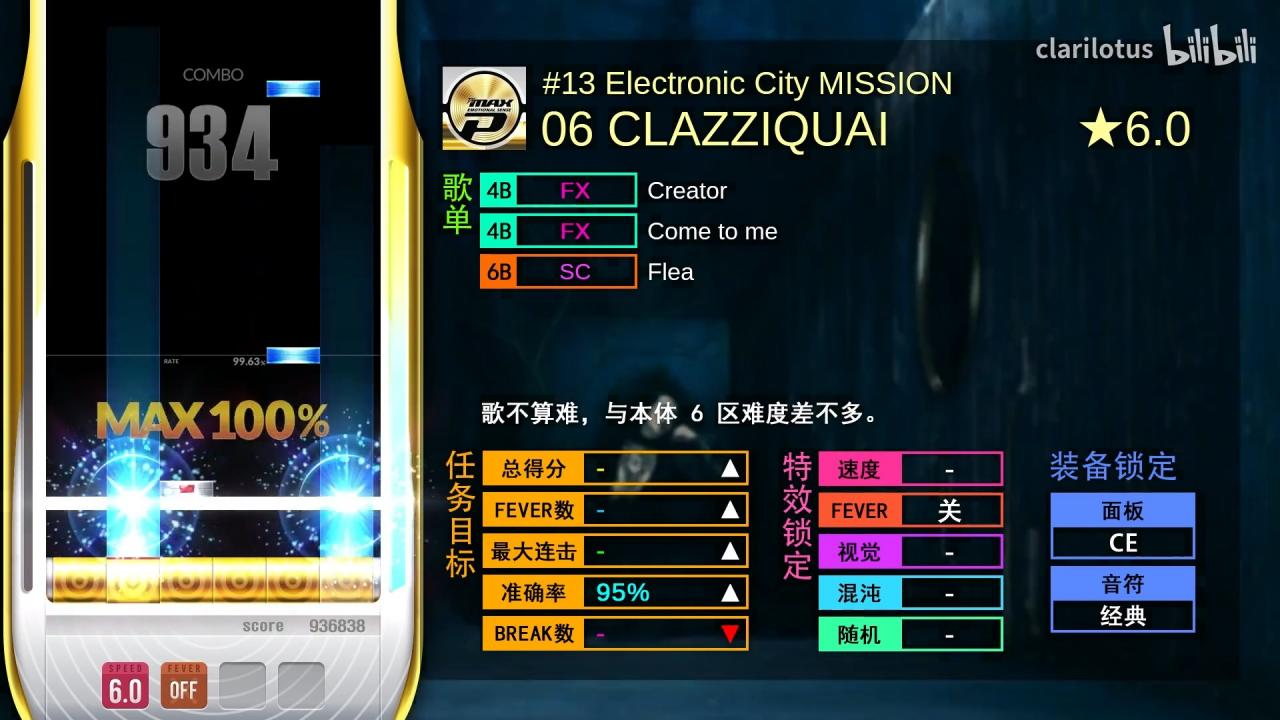note: (266, 80, 321, 97), (160, 481, 214, 497), (267, 347, 320, 363)
